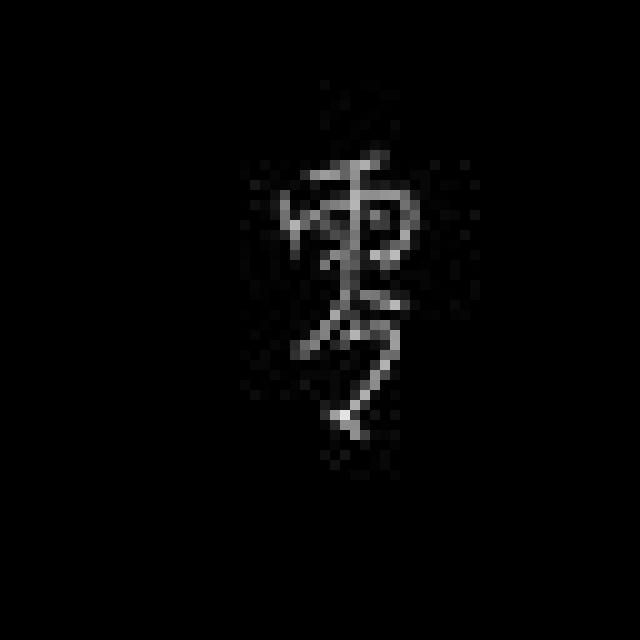0 -zero-: (268, 149, 424, 445)
